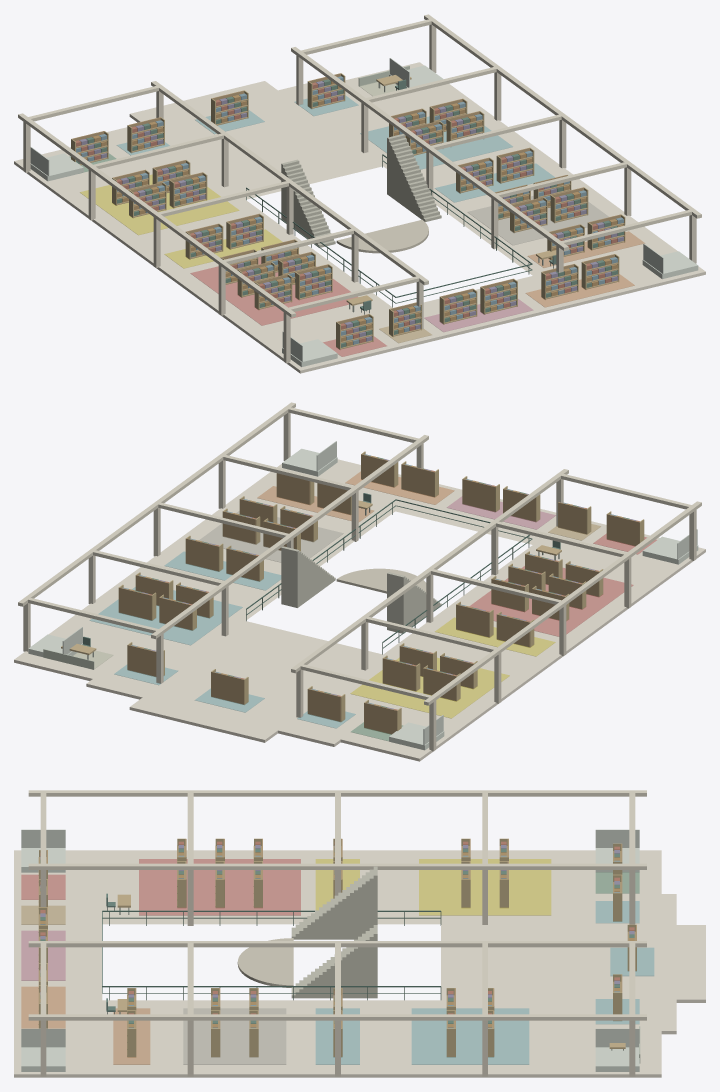
File: 图书馆_4楼_空间剖切.glb
3 renders of one model, top to bottom at view 1: azimuth 30°, elevation 25°; view 2: azimuth 150°, elevation 25°; view 3: azimuth 270°, elevation 25°, orthographic. The views are drawn at different scales.
Parts seen in each view (by area): view 1: guide_outline_floor_slab, guide_function_tint (×9), schematic_beam (×4), side_gallery_beam (×10), corner_service_room (×3), photo_guided_curved_landing; view 2: guide_outline_floor_slab, rack_back (×32), guide_function_tint (×10), schematic_beam (×4), side_gallery_beam (×10), corner_service_room (×3), central_stair_tread (×2), photo_guided_curved_landing; view 3: guide_outline_floor_slab, guide_function_tint (×15), schematic_beam (×4), corner_service_room (×4), side_gallery_beam (×6), service_partition (×4), photo_guided_curved_landing, atrium_rail_top (×2), atrium_rail_lower.
Boxes of the visible parts, box(x1,y1,x2,y2) form: guide_outline_floor_slab: box(14, 62, 705, 373); guide_function_tint (×9): box(80, 113, 644, 331); schematic_beam (×4): box(18, 14, 701, 317); side_gallery_beam (×10): box(28, 19, 691, 311); corner_service_room (×3): box(30, 153, 698, 366); photo_guided_curved_landing: box(336, 219, 428, 253); guide_outline_floor_slab: box(14, 459, 705, 761); rack_back (×32): box(119, 454, 639, 734); guide_function_tint (×10): box(89, 471, 633, 718); schematic_beam (×4): box(18, 402, 701, 705); side_gallery_beam (×10): box(28, 407, 691, 699); corner_service_room (×3): box(282, 448, 698, 750); central_stair_tread (×2): box(281, 546, 405, 633); photo_guided_curved_landing: box(336, 568, 426, 593); guide_outline_floor_slab: box(14, 850, 705, 1077); guide_function_tint (×15): box(21, 859, 654, 1064); schematic_beam (×4): box(28, 790, 646, 1020); corner_service_room (×4): box(21, 848, 639, 1071); side_gallery_beam (×6): box(40, 791, 635, 1015); service_partition (×4): box(21, 829, 639, 1047); photo_guided_curved_landing: box(237, 938, 293, 987); atrium_rail_top (×2): box(102, 910, 440, 987); atrium_rail_lower: box(102, 917, 440, 918).
Size of the model in its own units: 36.42 by 4.9 by 47.
